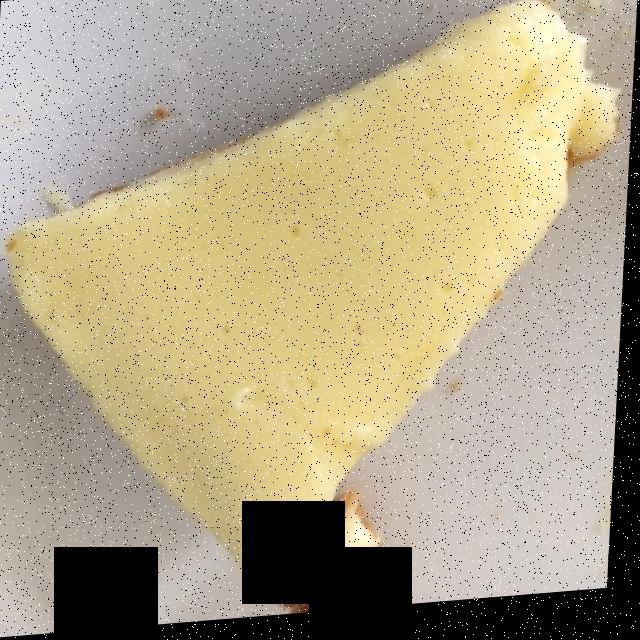pie: (21, 3, 614, 599)
